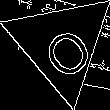O_NW: (29, 10, 93, 78)
